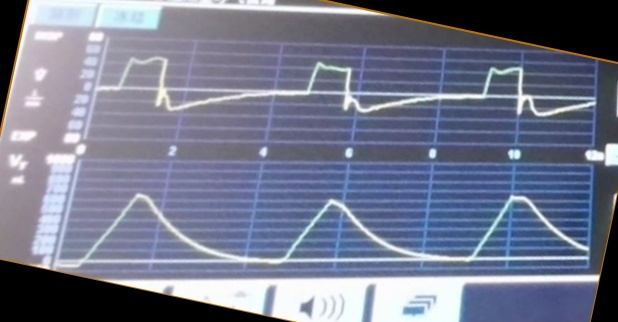Premature_cycling Flow: (105, 53, 571, 141)
Premature_cycling Volume: (75, 187, 587, 270)
